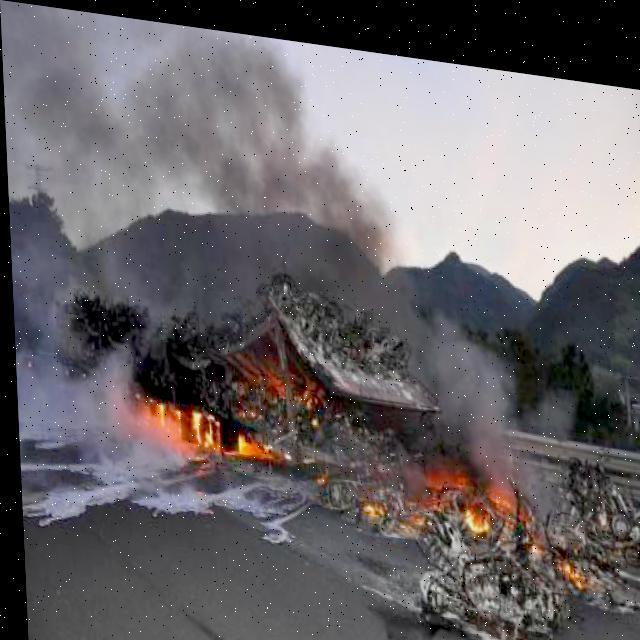Fire: (424, 450, 550, 548), (126, 376, 272, 456)
